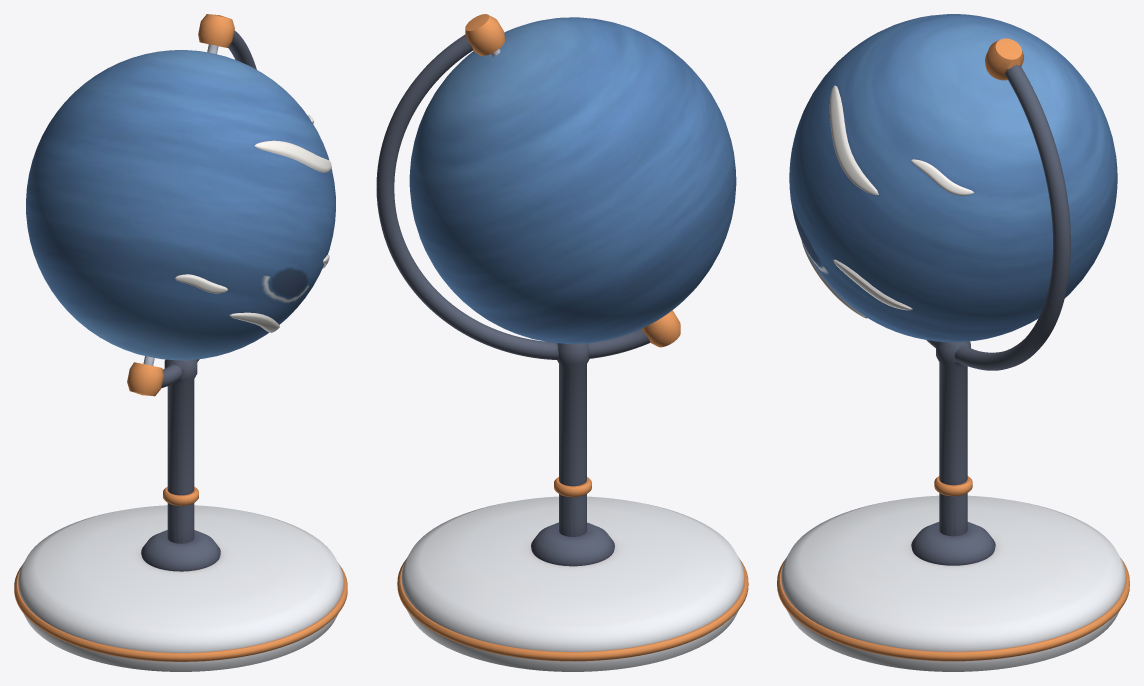
File: neptune.glb
3 views of the same model, side by side, from view 1: azimuth 30°, elevation 25°; view 2: azimuth 150°, elevation 25°; view 3: azimuth 270°, elevation 25° (orthographic). The views are drawn at different scales.
Visible parts, largest first — view 1: neptune_sphere, neptune_body; view 2: neptune_sphere, neptune_body; view 3: neptune_sphere, neptune_body.
Boxes of the visible parts, x1,y1,x2,y2 form: neptune_sphere: [26, 50, 335, 360]; neptune_body: [14, 14, 347, 671]; neptune_sphere: [409, 17, 736, 343]; neptune_body: [376, 14, 748, 671]; neptune_sphere: [789, 14, 1117, 342]; neptune_body: [777, 38, 1129, 671].
Bounding box in the file's own units: 0.2256 × 0.4223 × 0.2256.
Materials: 2 (2 with a texture image).
